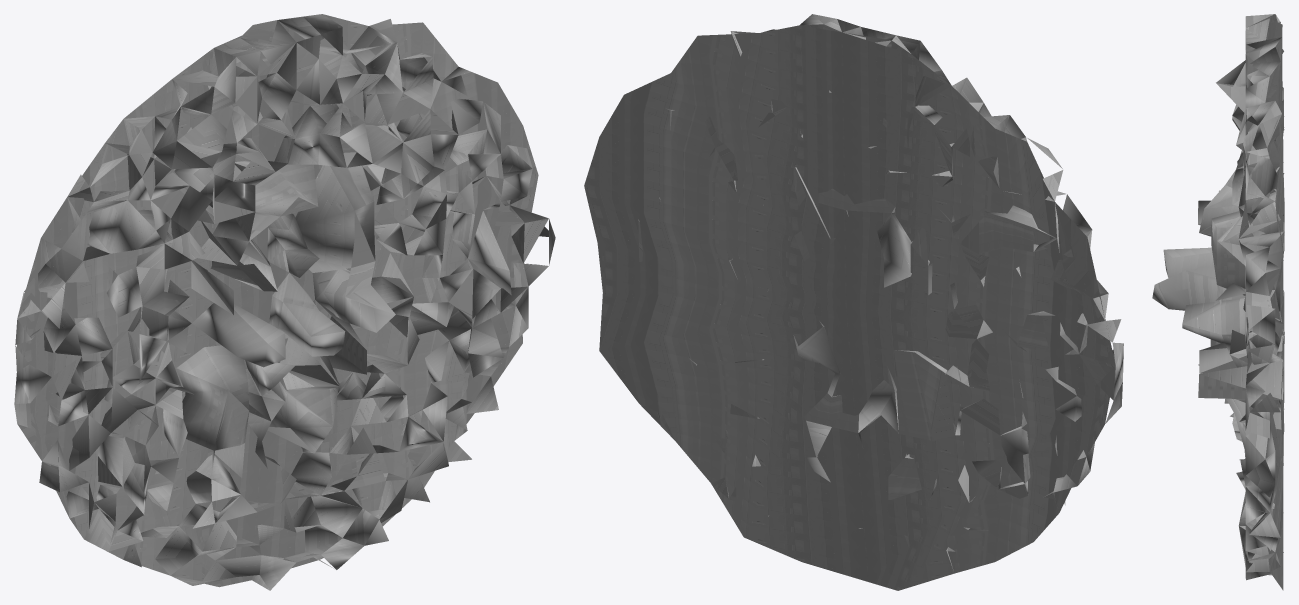
File: city_LOD2.gltf
3 views of the same model, side by side, from view 1: azimuth 30°, elevation 25°; view 2: azimuth 150°, elevation 25°; view 3: azimuth 270°, elevation 25° (orthographic). The views are drawn at different scales.
Visible parts, largest first — view 1: city_LOD2; view 2: city_LOD2; view 3: city_LOD2.
Part boxes in pixels (x1=…): city_LOD2: x1=14, y1=14, x2=555, y2=590; city_LOD2: x1=584, y1=14, x2=1123, y2=590; city_LOD2: x1=1152, y1=14, x2=1284, y2=590.
Bounding box in the file's own units: 3.73 × 3.71 × 0.8491.
1 material, 1 textured.
